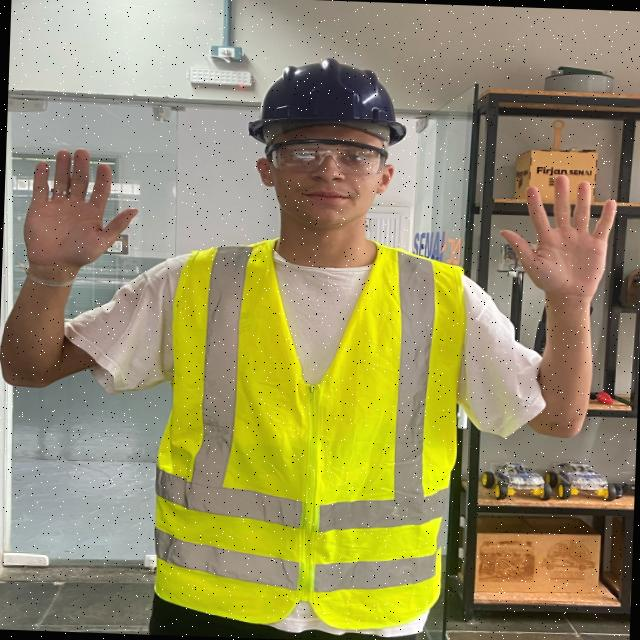CAPACETE: (238, 51, 410, 153)
COLETE: (135, 229, 482, 628)
OCULOS: (263, 132, 399, 181)
SEM LUVA: (27, 142, 152, 268), (496, 169, 622, 293)
